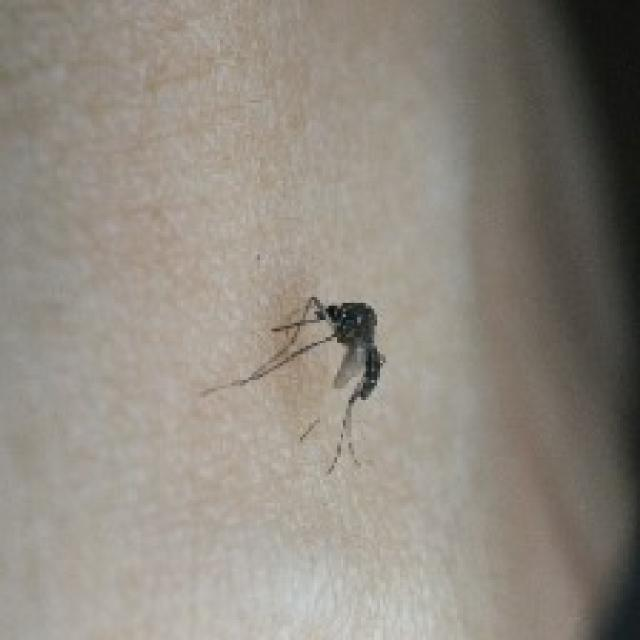aedes: (197, 292, 386, 474)
